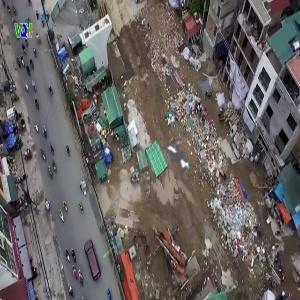drone: (132, 109, 226, 203)
